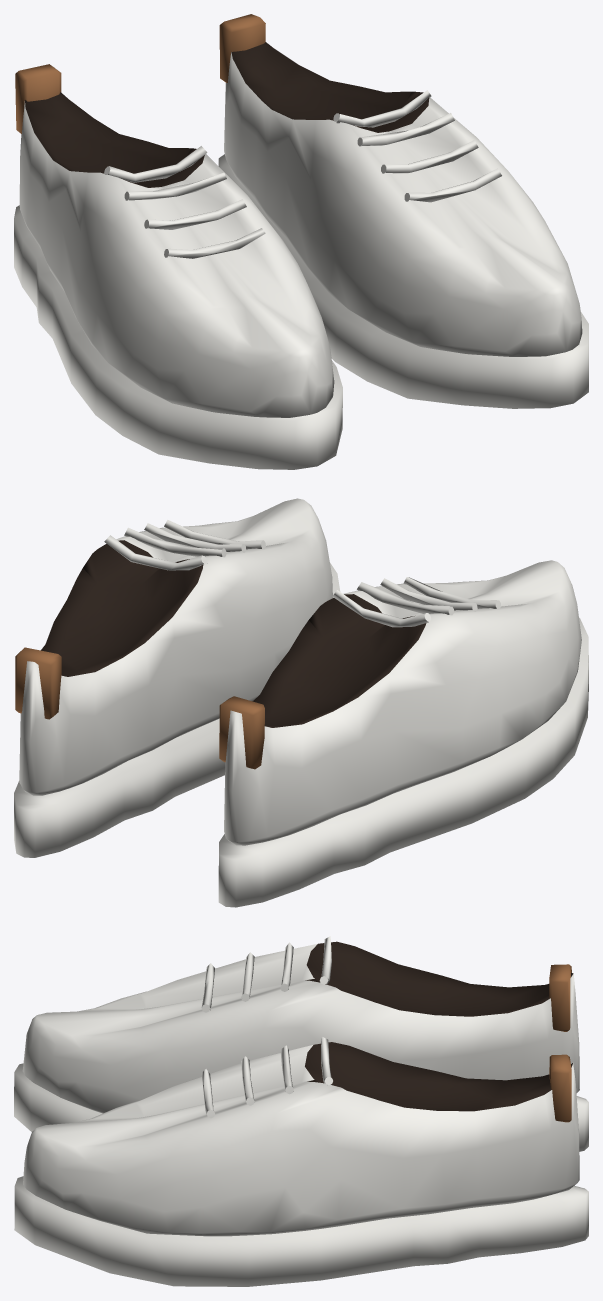
Rendered from shoes-lightweight-c36d6f1337.glb.
3 renders of one model, top to bottom at view 1: azimuth 30°, elevation 25°; view 2: azimuth 150°, elevation 25°; view 3: azimuth 270°, elevation 25°, orthographic. The views are drawn at different scales.
Parts seen in each view (by area): view 1: shoes; view 2: shoes; view 3: shoes.
Boxes of the visible parts, x1,y1,x2,y2 form: shoes: (14, 14, 588, 469); shoes: (14, 498, 588, 907); shoes: (14, 936, 588, 1286).
Bounding box in the file's own units: 0.2186 × 0.0987 × 0.2773.
